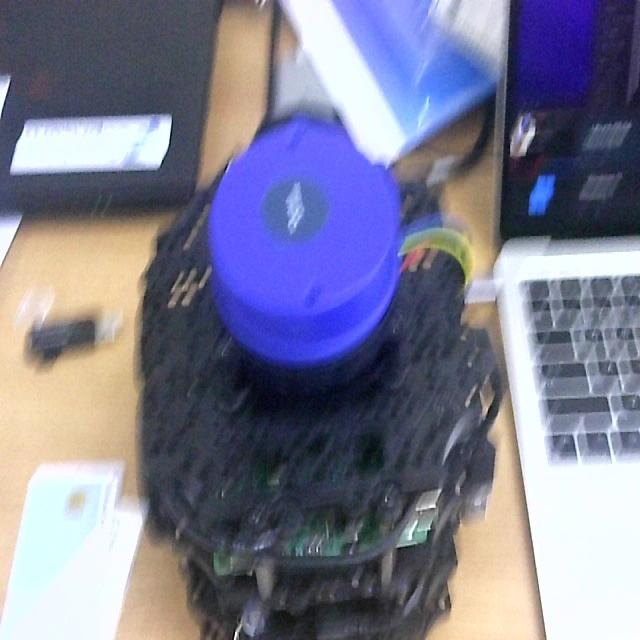turtle: (132, 105, 504, 640)
